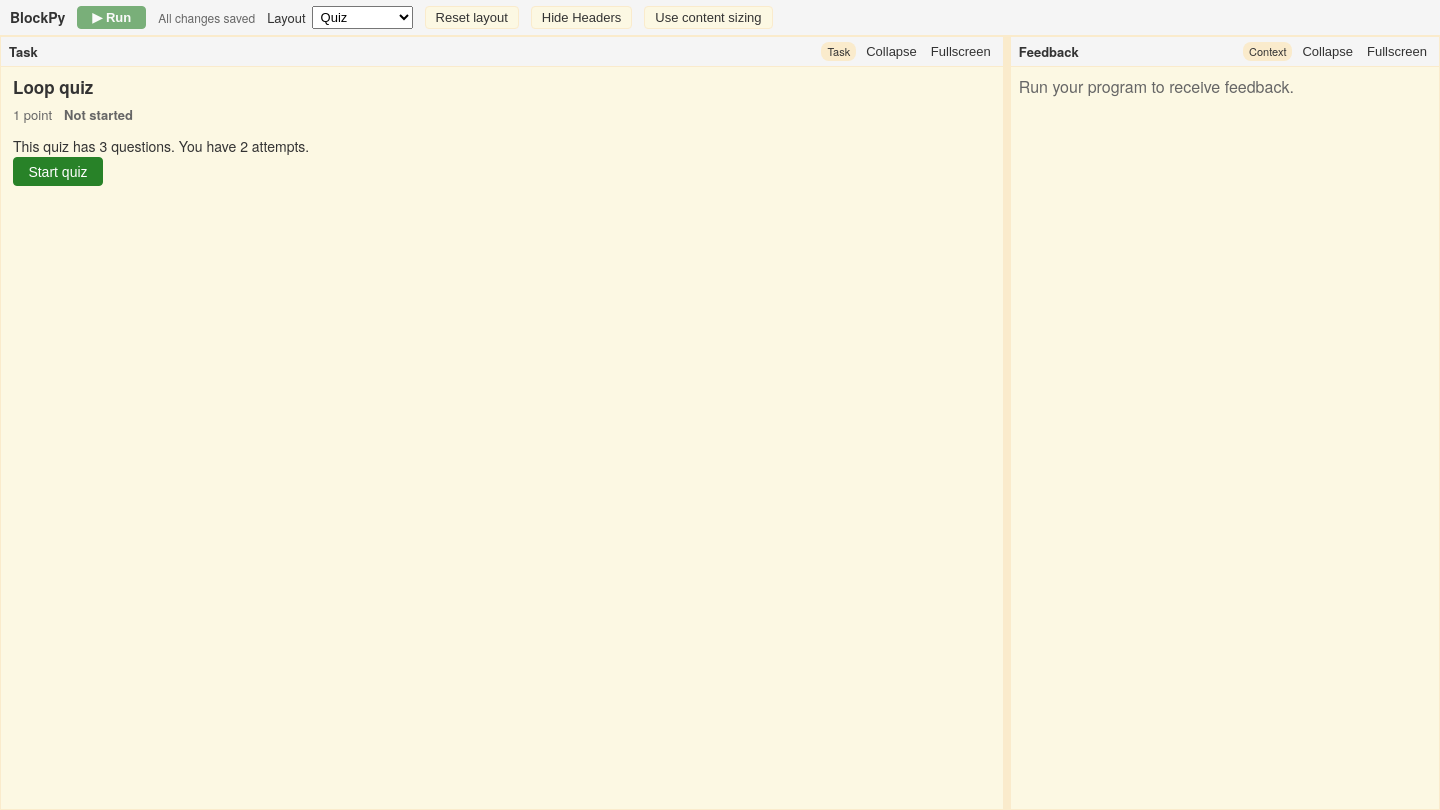
Test case: QuizTask › marks wrong answers incorrect and the task complete, not graded
This screenshot has width=1440, height=810.
Click the button "Start quiz": (58, 172) [13,157,103,186]
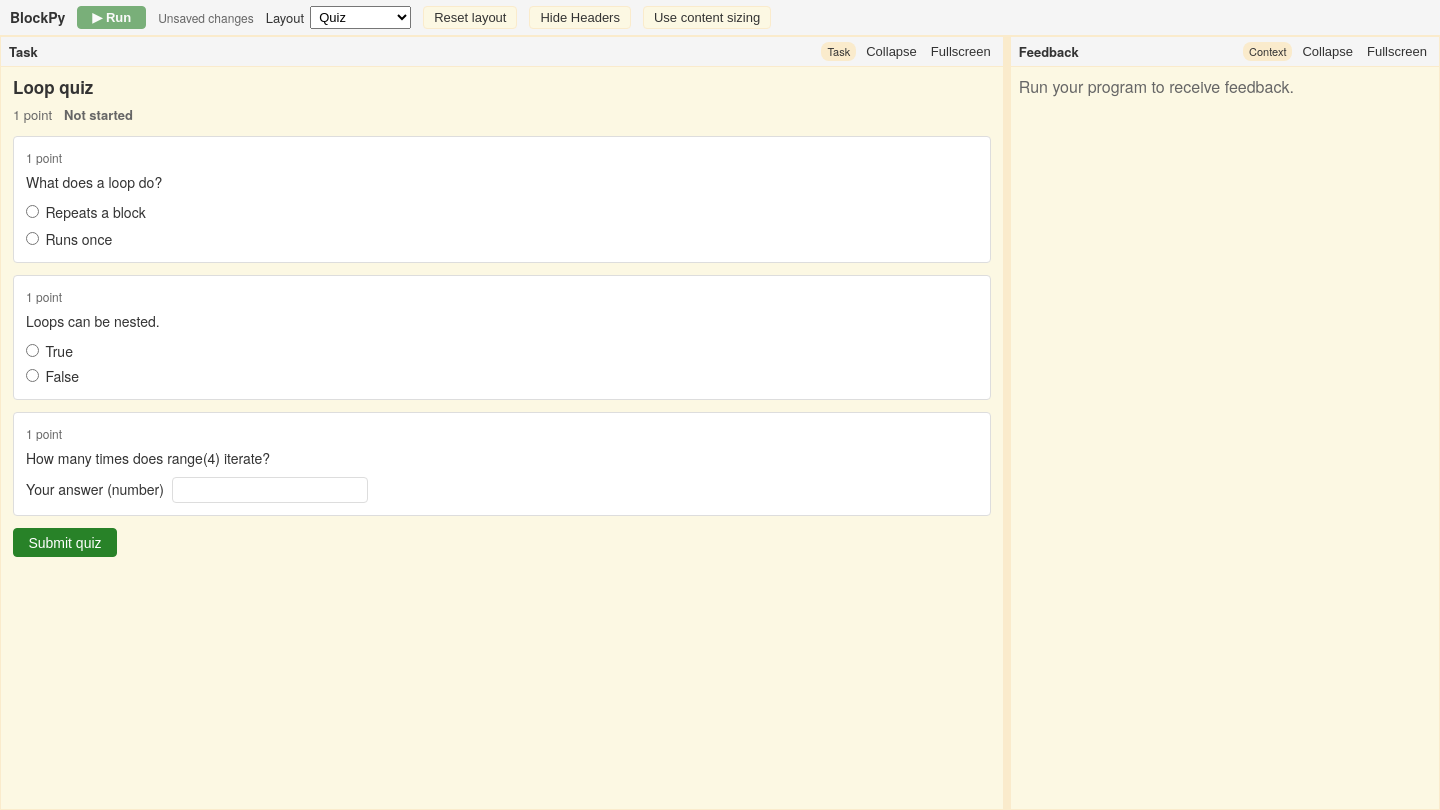
Click the radio button labelled "Runs once": (32, 238) [26,232,39,245]
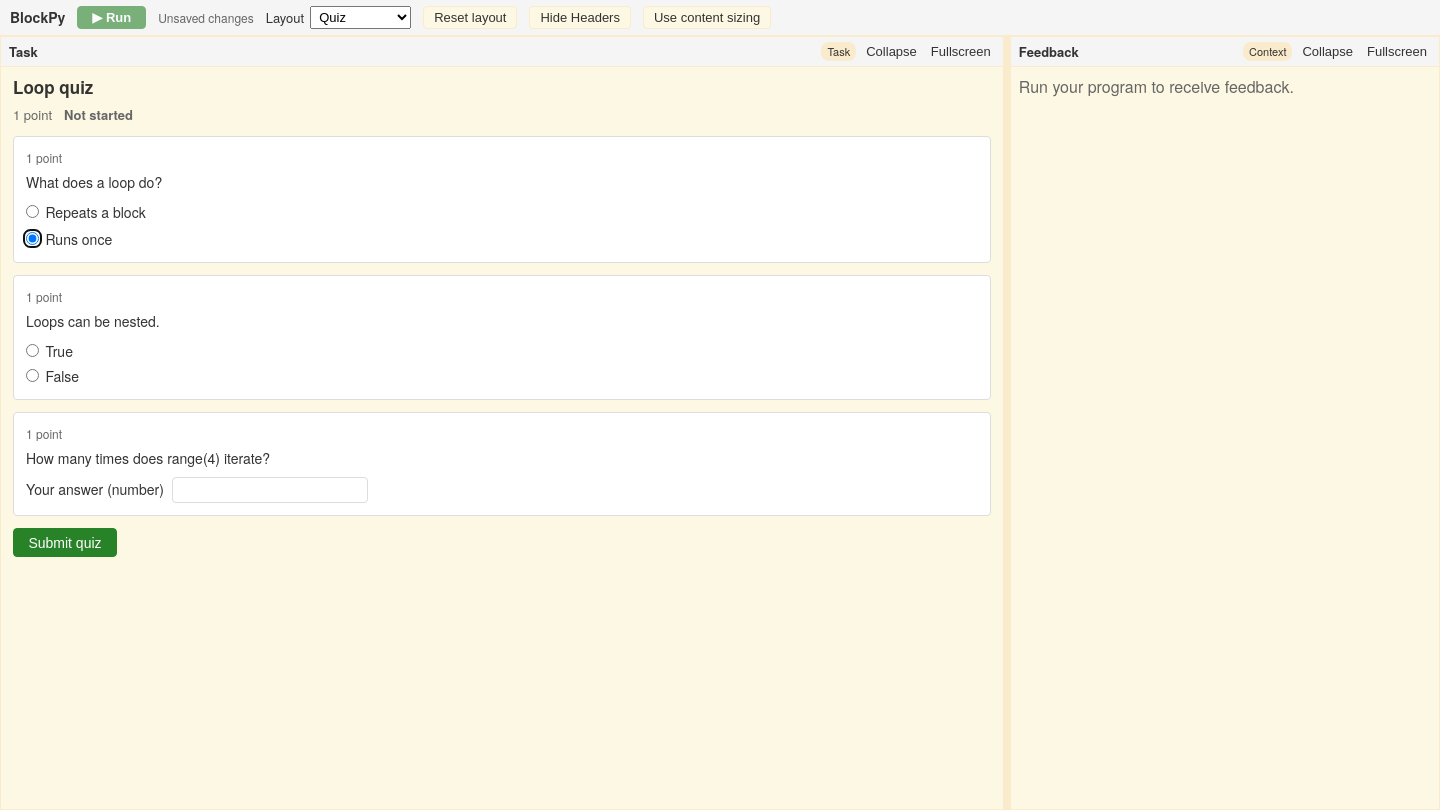
Click the button "Submit quiz": (65, 543) [13,528,117,557]
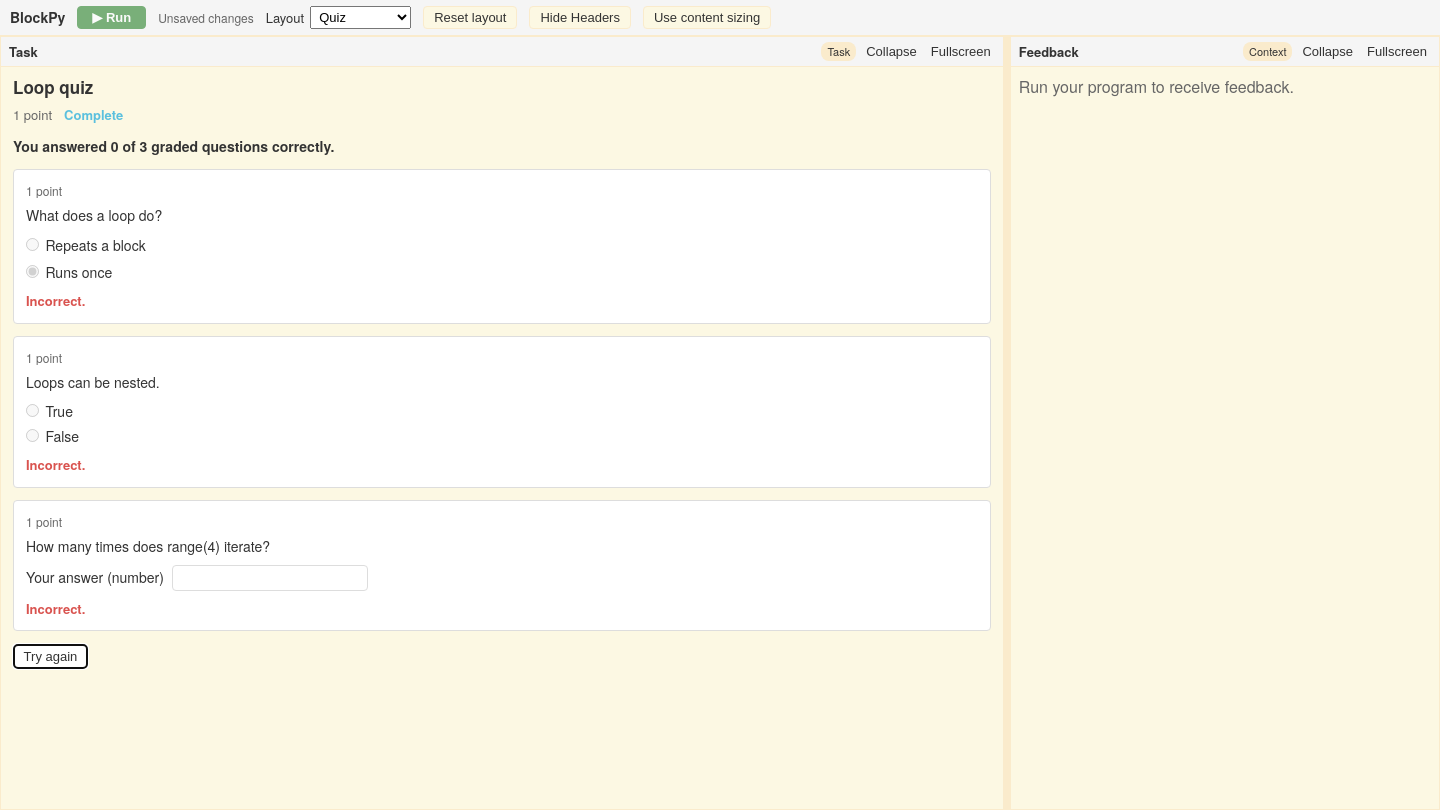
Result: the text "You answered 0 of 3 graded questions correctly." is shown at [13,136,334,156]
Result: the text "Incorrect." is shown 3 times at [26,291,85,310]; [26,455,85,474]; [26,599,85,618]
